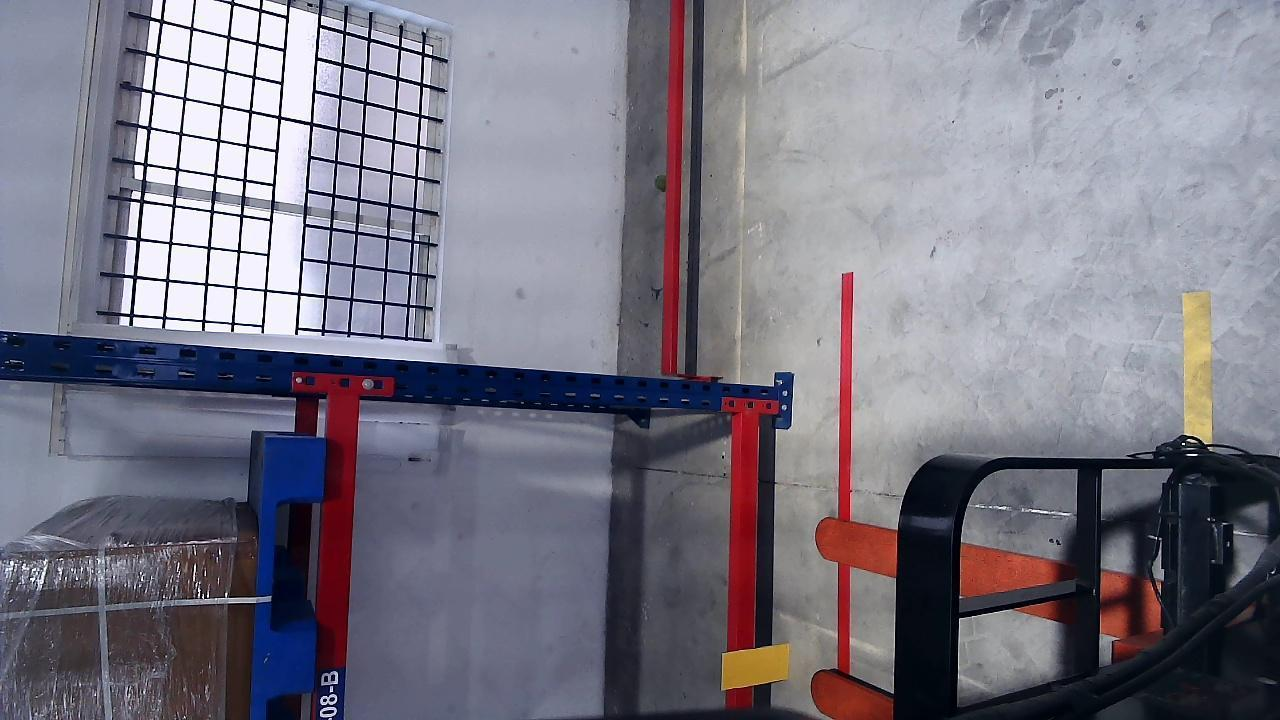red_line: (837, 270, 855, 675)
yellow_line: (1182, 290, 1215, 442)
